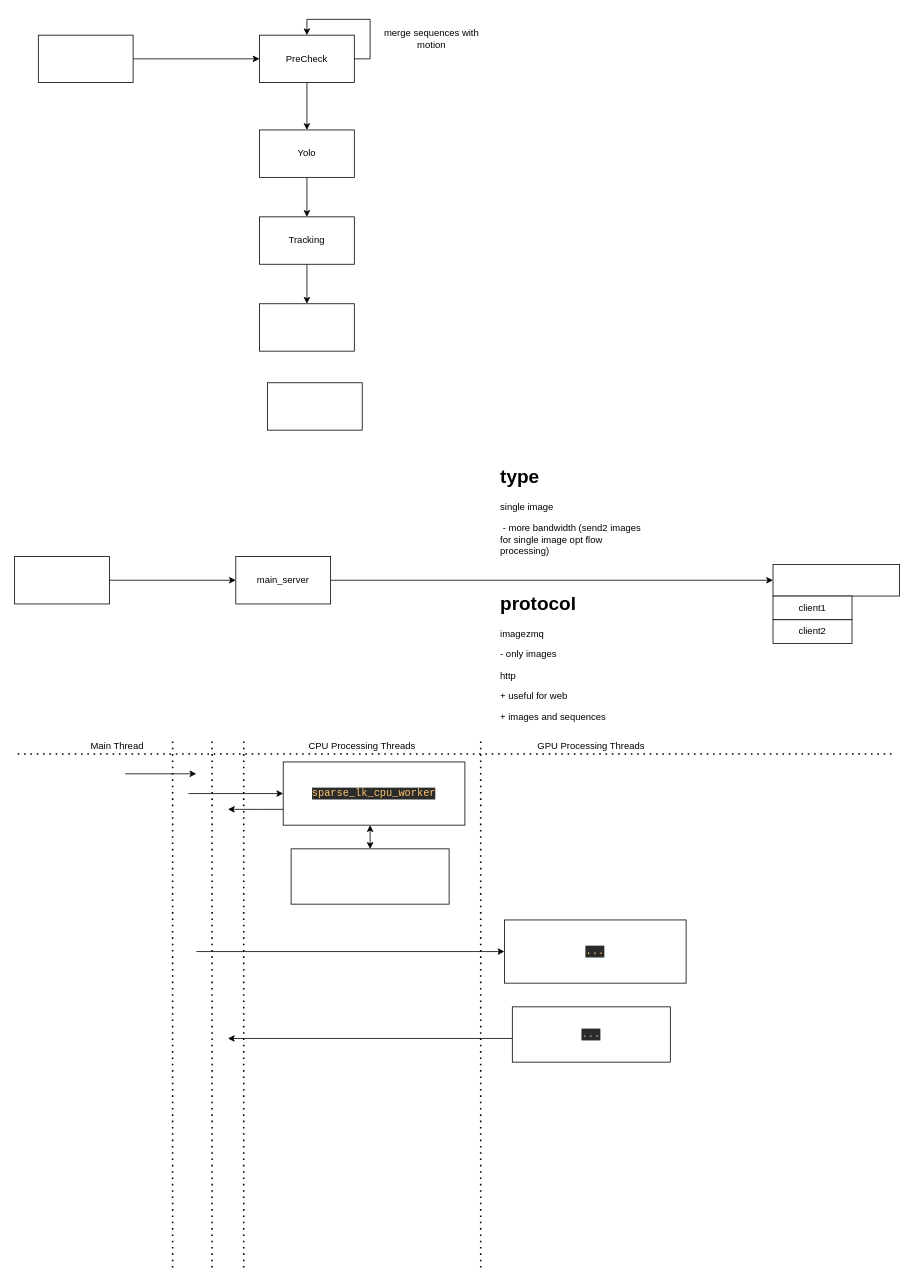
Some shapes in this 913 by 1283 pixel diagram are drawn without their labels. The centre of each missing label's shape, as x and y in pixels:
"Create FlightData" goes at point 306,327.
"fids client" goes at point 61,580.
"LucasKanadeCPU" goes at point 369,876.
"processing_clients" goes at point 835,580.
"Sequence Splitter" goes at point 85,58.
